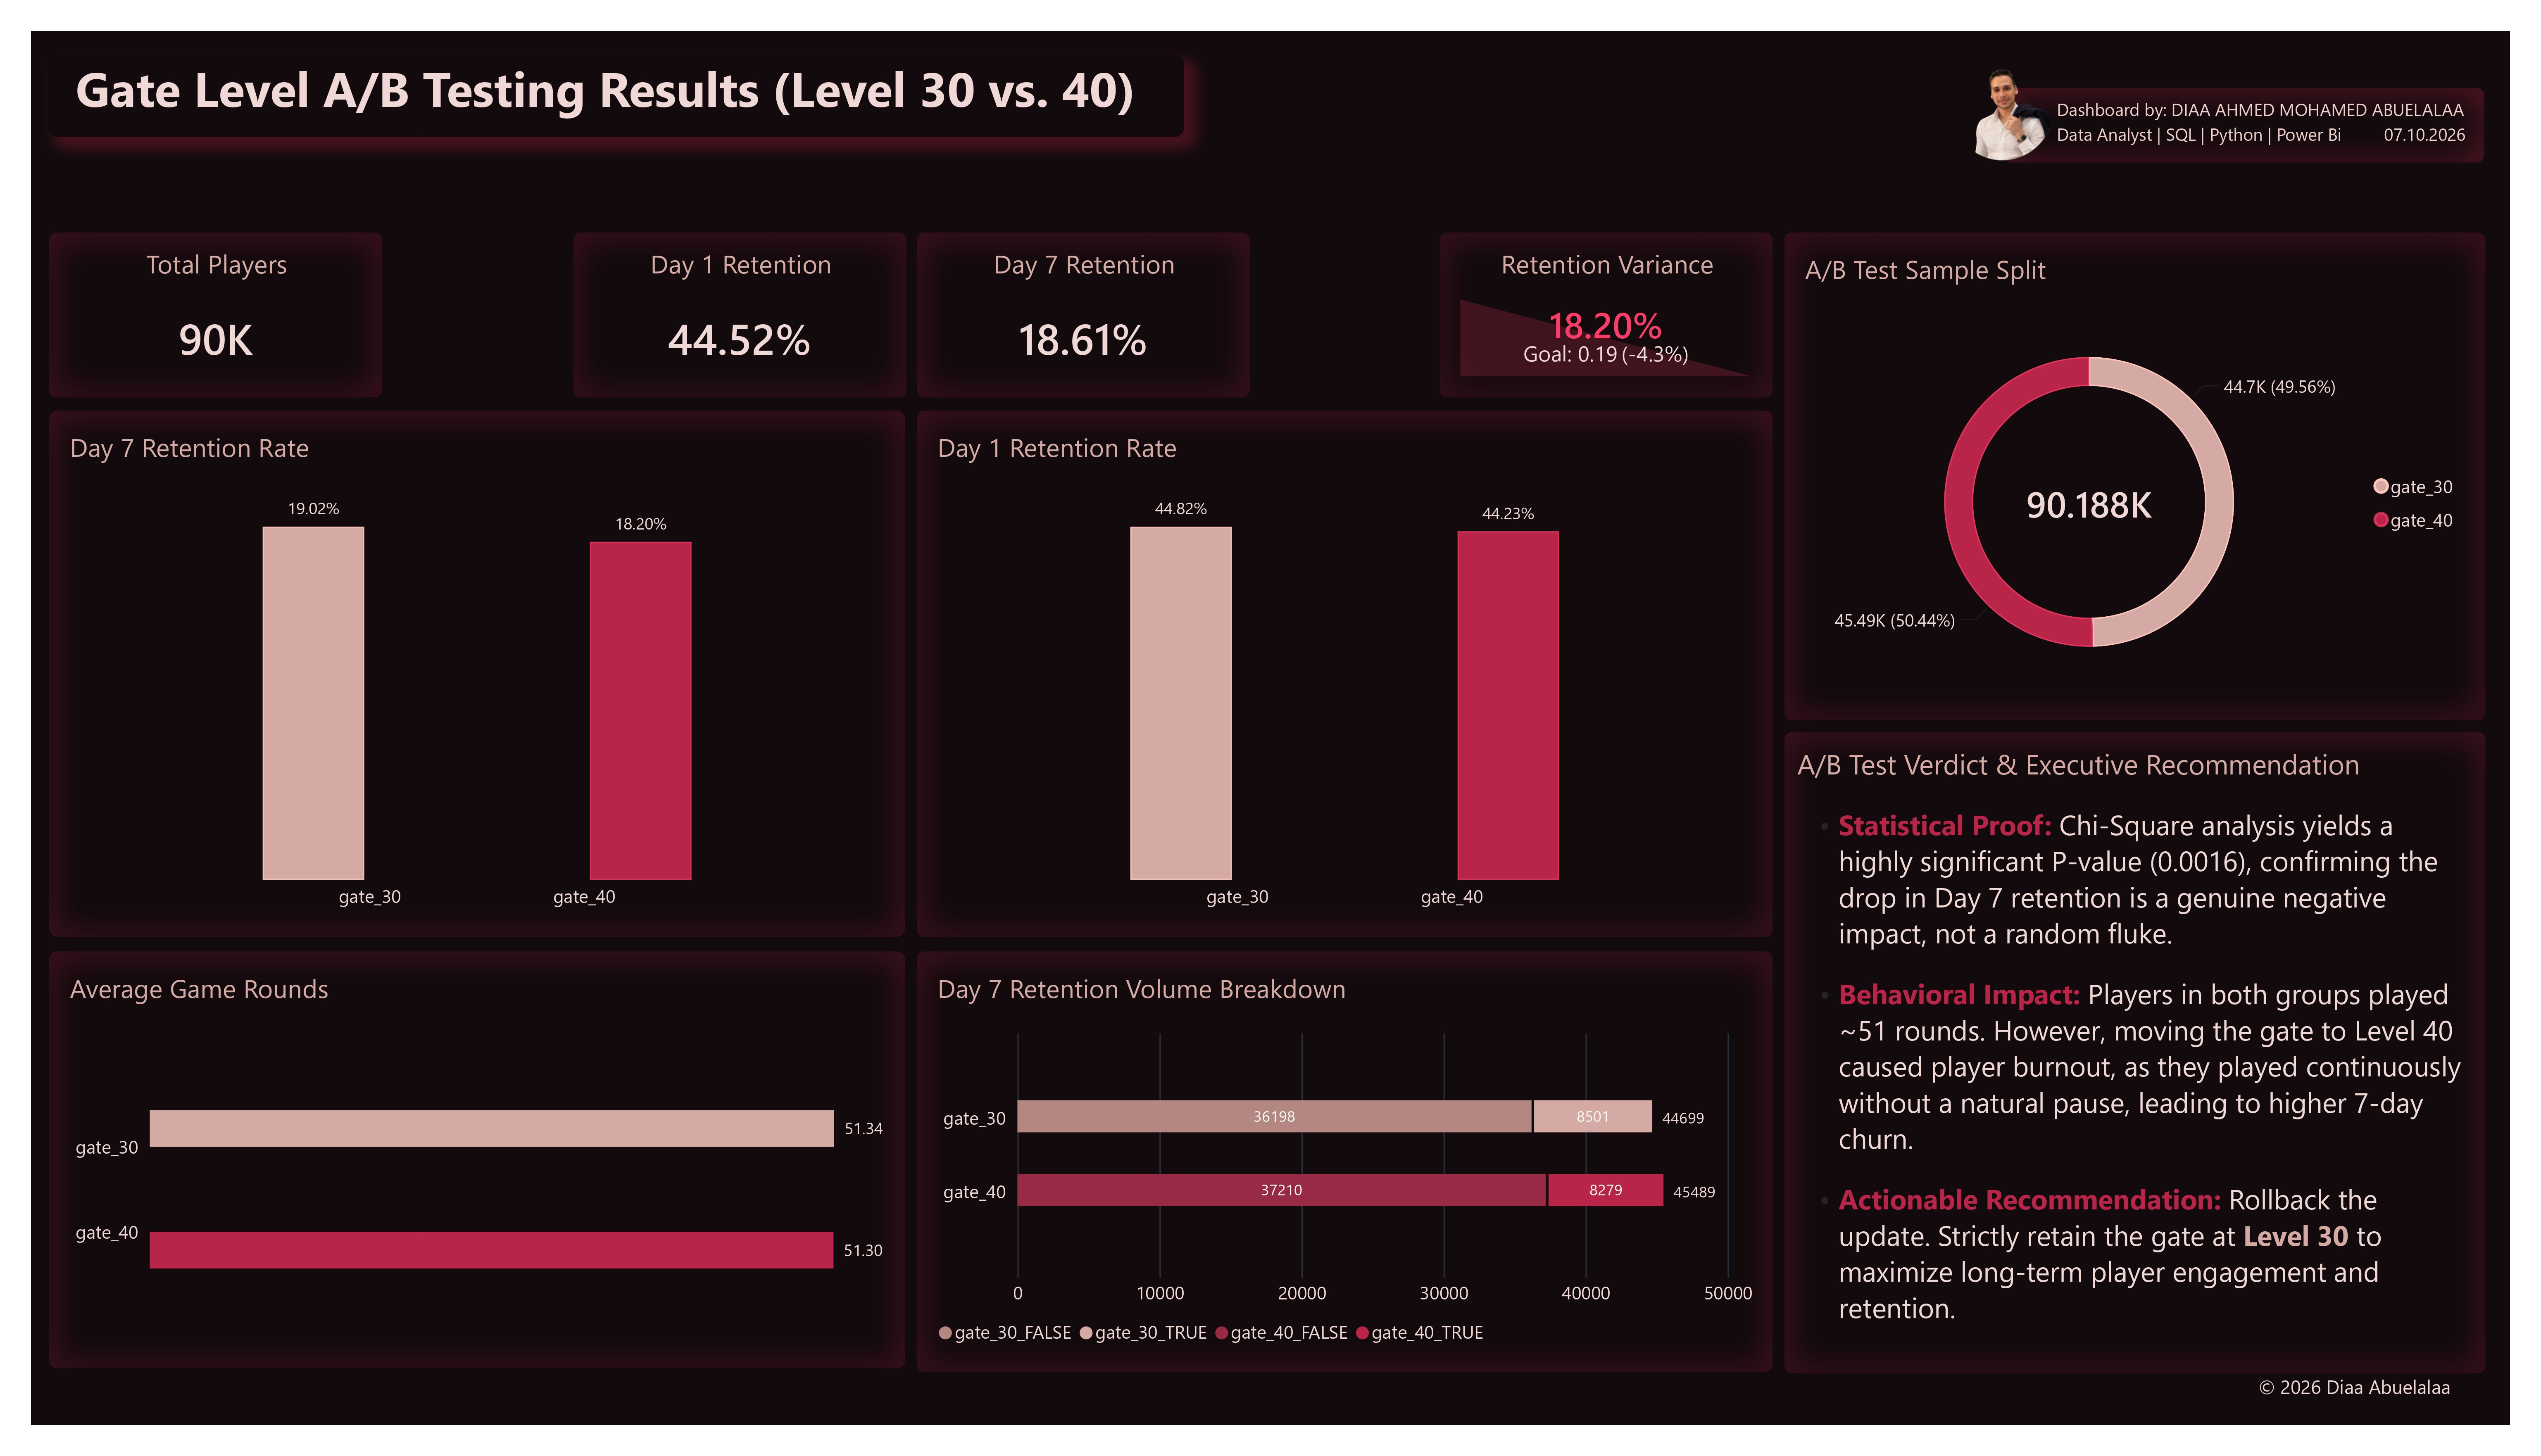

Layout of this report page (visuals, bound fields, positions):
{"tool":"powerbi","page":{"name":"Page 1","canvas":[1920,1080],"ordinal":0},"visuals":[{"type":"group","id":"g1","title":"Group 1","box":[1468.9,0,433.8,120.6],"z":0},{"type":"shape","box":[1529.3,43.4,373.6,59.6],"z":0,"group":"g1"},{"type":"textbox","box":[1570.8,50.9,332.1,62.3],"z":500,"group":"g1"},{"type":"image","box":[1468.9,0,120,120],"z":1000,"group":"g1"},{"type":"textbox","box":[1725.2,1040.1,194.3,39.6],"z":1000},{"type":"cardVisual","title":"Total Players","fields":{"Data":["cookie_cats_cleaned.Total Players"]},"box":[13.4,155,260,130],"z":2000},{"type":"cardVisual","title":"Day 1 Retention","fields":{"Data":["cookie_cats_cleaned.Day 1 Retention"]},"box":[418.7,155,260,130],"z":3000},{"type":"cardVisual","title":"Day 7 Retention","fields":{"Data":["cookie_cats_cleaned.Day 7 Retention"]},"box":[685.1,155,260,130],"z":4000},{"type":"clusteredColumnChart","title":"Day 7 Retention Rate","fields":{"Category":["cookie_cats_cleaned.version_a_b"],"Series":["cookie_cats_cleaned.version_a_b"],"Y":["cookie_cats_cleaned.Day 7 Retention"]},"box":[13.4,293.1,665,410],"z":5000},{"type":"clusteredColumnChart","title":"Day 1 Retention Rate","fields":{"Category":["cookie_cats_cleaned.version_a_b"],"Series":["cookie_cats_cleaned.version_a_b"],"Y":["cookie_cats_cleaned.Day 1 Retention"]},"box":[685.1,293.1,665,410],"z":6000},{"type":"textbox","box":[1358.4,541,545,499.1],"z":7000},{"type":"clusteredBarChart","title":"Average Game Rounds","fields":{"Category":["cookie_cats_cleaned.version_a_b"],"Series":["cookie_cats_cleaned.version_a_b"],"Y":["cookie_cats_cleaned.Average Game Rounds"]},"box":[13.4,711.9,665,324.9],"z":8000},{"type":"textbox","box":[13.4,18.4,879.3,63.6],"z":9000},{"type":"donutChart","title":"A/B Test Sample Split","fields":{"Category":["cookie_cats_cleaned.version_a_b"],"Y":["CountNonNull(cookie_cats_cleaned.retention_7)"]},"box":[1358.4,155.8,545,375.2],"z":10000},{"type":"barChart","title":"Day 7 Retention Volume Breakdown","fields":{"Category":["cookie_cats_cleaned.version_a_b"],"Y":["cookie_cats_cleaned.Gate30_False","cookie_cats_cleaned.Gate30_True","cookie_cats_cleaned.Gate40_False","cookie_cats_cleaned.Gate40_True"]},"box":[685.1,711.9,665,326.6],"z":11000},{"type":"kpi","title":"Retention Variance","fields":{"Goal":["cookie_cats_cleaned.Day 7 Retention Gate30"],"Indicator":["cookie_cats_cleaned.Day 7 Retention"],"TrendLine":["cookie_cats_cleaned.version_a_b"]},"box":[1090.2,155,260,130],"z":12000}]}

Visuals, with their boxes on the page's 1920x1080 design canvas (x1, y1, x2, y2). These are canvas units, not pixel positions in the 2541x1456 screenshot, which may show the page scaled, cropped or inside an application window:
"Group 1" group: [1469, 0, 1903, 121]
shape: [1529, 43, 1903, 103]
textbox: [1571, 51, 1903, 113]
image: [1469, 0, 1589, 120]
textbox: [1725, 1040, 1920, 1080]
"Total Players" cardVisual: [13, 155, 273, 285]
"Day 1 Retention" cardVisual: [419, 155, 679, 285]
"Day 7 Retention" cardVisual: [685, 155, 945, 285]
"Day 7 Retention Rate" clusteredColumnChart: [13, 293, 678, 703]
"Day 1 Retention Rate" clusteredColumnChart: [685, 293, 1350, 703]
textbox: [1358, 541, 1903, 1040]
"Average Game Rounds" clusteredBarChart: [13, 712, 678, 1037]
textbox: [13, 18, 893, 82]
"A/B Test Sample Split" donutChart: [1358, 156, 1903, 531]
"Day 7 Retention Volume Breakdown" barChart: [685, 712, 1350, 1038]
"Retention Variance" kpi: [1090, 155, 1350, 285]
